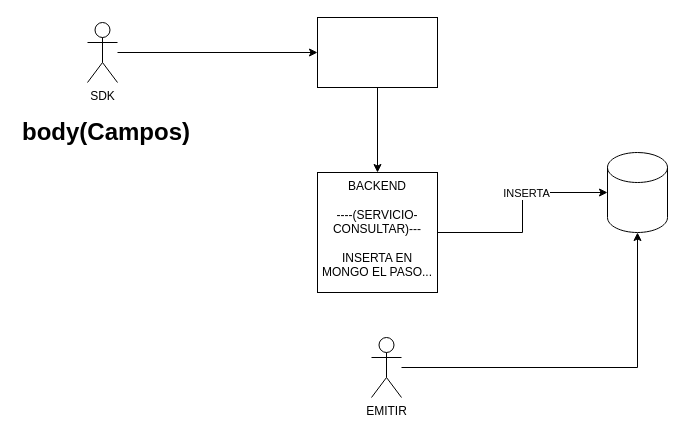
Image size: 685x436. Some labels were removed from this diagram. The box of each missing label's shape, as (x1, y1, x2, y2) in pixels:
FRONT CAMPOS SESION STORAGE: (316, 16, 438, 88)
MONGO: (606, 152, 668, 232)
